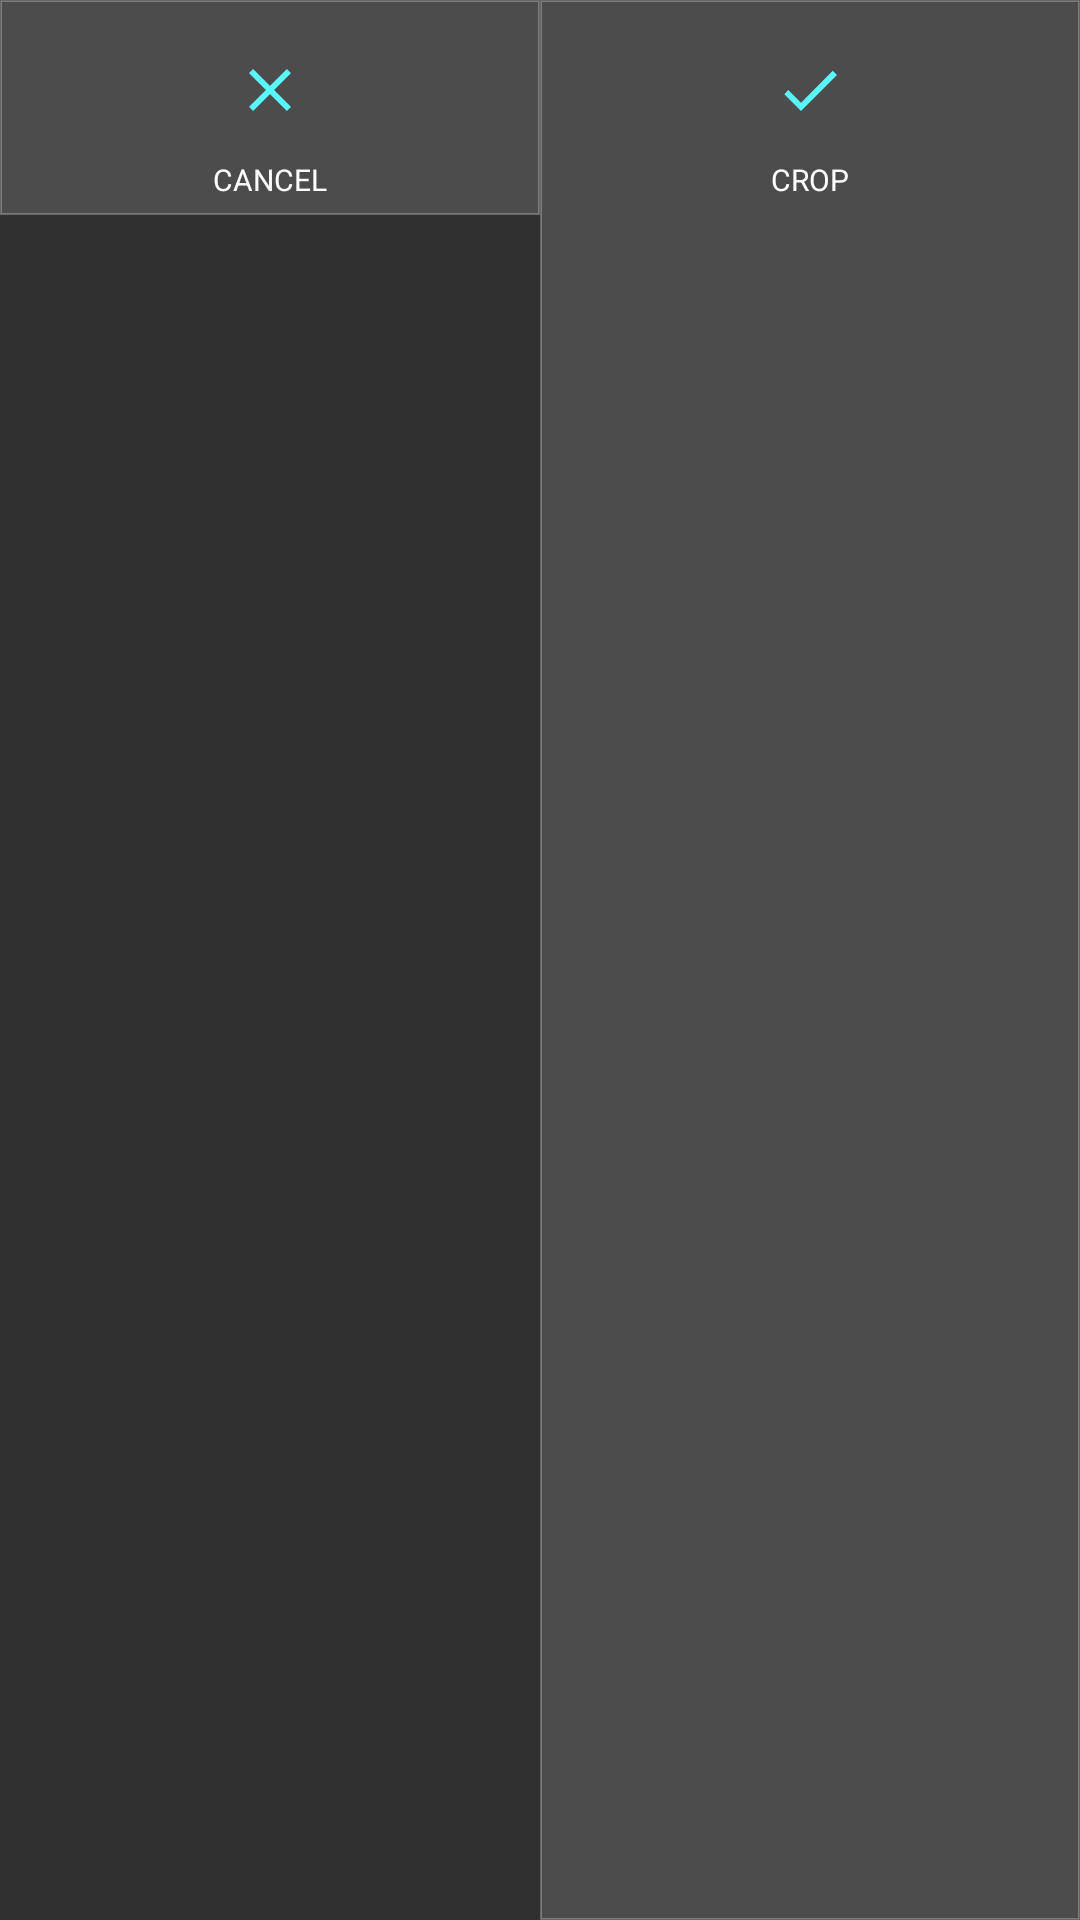

Icon click points for this 1080w x 1920h phone screenshot, format (x=x, y=y):
done: (x=810, y=91)
